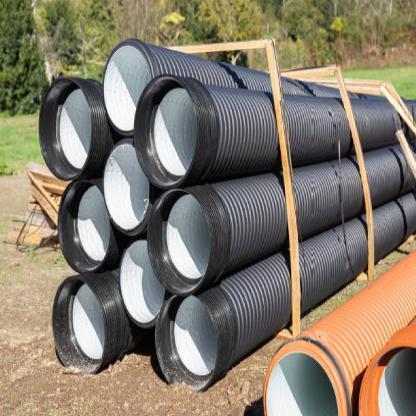pipe: (132, 74, 198, 186), (147, 189, 212, 294), (156, 294, 218, 392), (263, 342, 345, 416), (39, 76, 93, 178), (51, 276, 106, 374), (57, 180, 110, 272), (104, 40, 152, 134), (102, 142, 150, 235), (358, 340, 416, 416), (118, 239, 166, 326)
